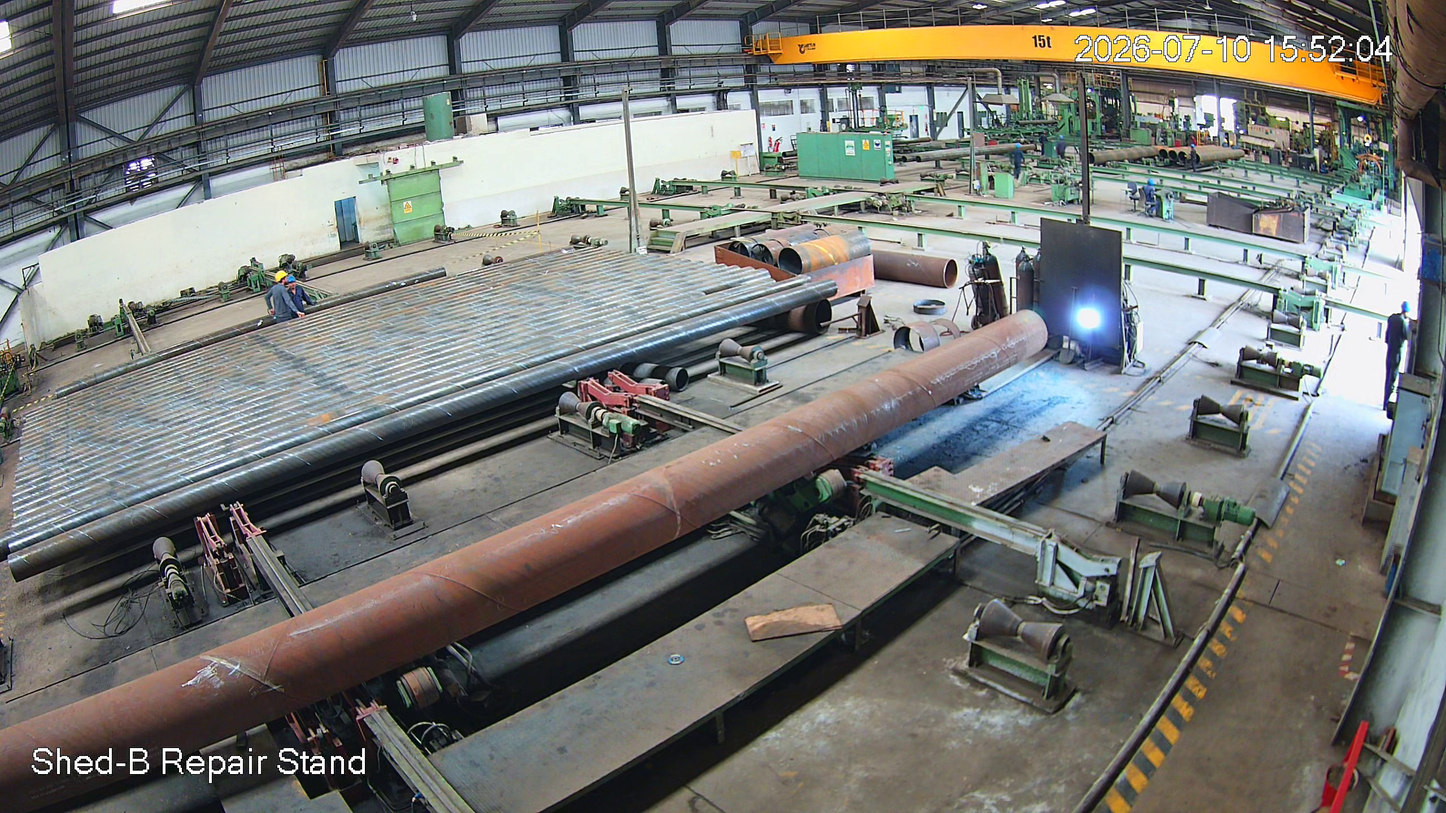Helmet: (1401, 297, 1415, 326), (273, 270, 290, 288), (288, 275, 299, 288)
Person: (1376, 300, 1416, 415), (263, 271, 303, 330), (287, 276, 316, 326)
